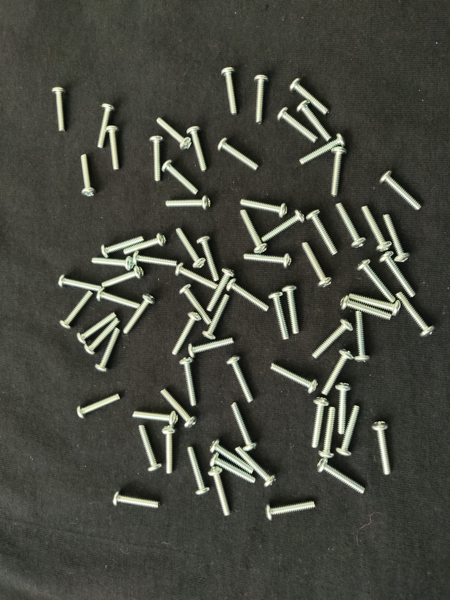longscrew: (378, 168, 426, 214), (317, 458, 369, 495), (396, 291, 436, 339), (235, 445, 278, 489), (379, 252, 419, 299), (311, 318, 354, 361), (356, 259, 397, 304), (289, 77, 334, 117), (333, 201, 368, 250), (307, 208, 341, 258), (361, 205, 395, 255), (299, 133, 347, 168), (209, 452, 258, 486), (381, 212, 413, 264), (226, 278, 272, 314), (159, 388, 199, 429), (277, 106, 320, 144), (296, 100, 334, 143), (208, 441, 256, 475), (269, 363, 320, 395), (217, 138, 262, 174), (322, 349, 355, 398), (122, 292, 157, 338), (301, 241, 335, 288), (260, 211, 306, 245), (178, 285, 214, 328), (201, 294, 233, 342), (238, 208, 270, 256), (59, 290, 94, 333), (174, 225, 207, 270), (336, 405, 364, 458), (84, 317, 121, 357), (161, 159, 201, 196), (231, 401, 260, 452), (170, 312, 202, 358), (340, 296, 394, 323), (227, 355, 256, 405), (76, 312, 118, 346), (205, 268, 235, 314), (94, 328, 124, 374), (75, 392, 122, 421), (175, 262, 222, 291), (186, 445, 212, 497), (371, 420, 394, 478), (99, 264, 145, 293), (156, 117, 194, 152), (207, 468, 233, 519), (263, 499, 318, 523), (137, 424, 163, 474), (195, 235, 221, 285), (111, 489, 164, 512), (268, 292, 292, 342), (350, 294, 403, 316), (121, 233, 167, 258), (352, 309, 372, 366), (186, 125, 209, 174), (100, 234, 145, 259), (238, 198, 289, 220), (309, 397, 330, 450), (318, 406, 338, 461), (282, 283, 302, 338), (329, 144, 349, 199), (186, 338, 235, 360), (96, 289, 142, 312), (96, 102, 118, 150), (335, 382, 354, 437), (179, 356, 199, 408), (50, 85, 70, 136), (220, 67, 240, 117), (160, 423, 178, 478), (241, 251, 295, 269), (77, 151, 97, 199), (253, 73, 270, 126), (57, 275, 104, 294), (130, 252, 179, 270), (132, 410, 180, 428), (165, 195, 214, 212), (105, 126, 122, 174), (91, 254, 136, 272), (148, 134, 164, 184)
